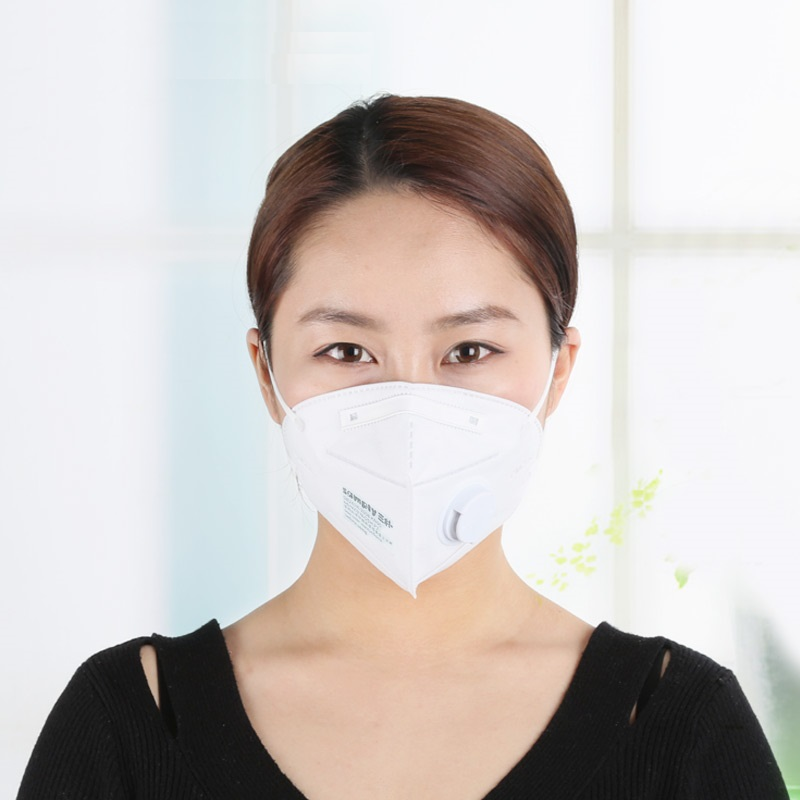face_mask: (271, 195, 548, 572)
